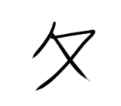ta: (20, 19, 100, 93)
